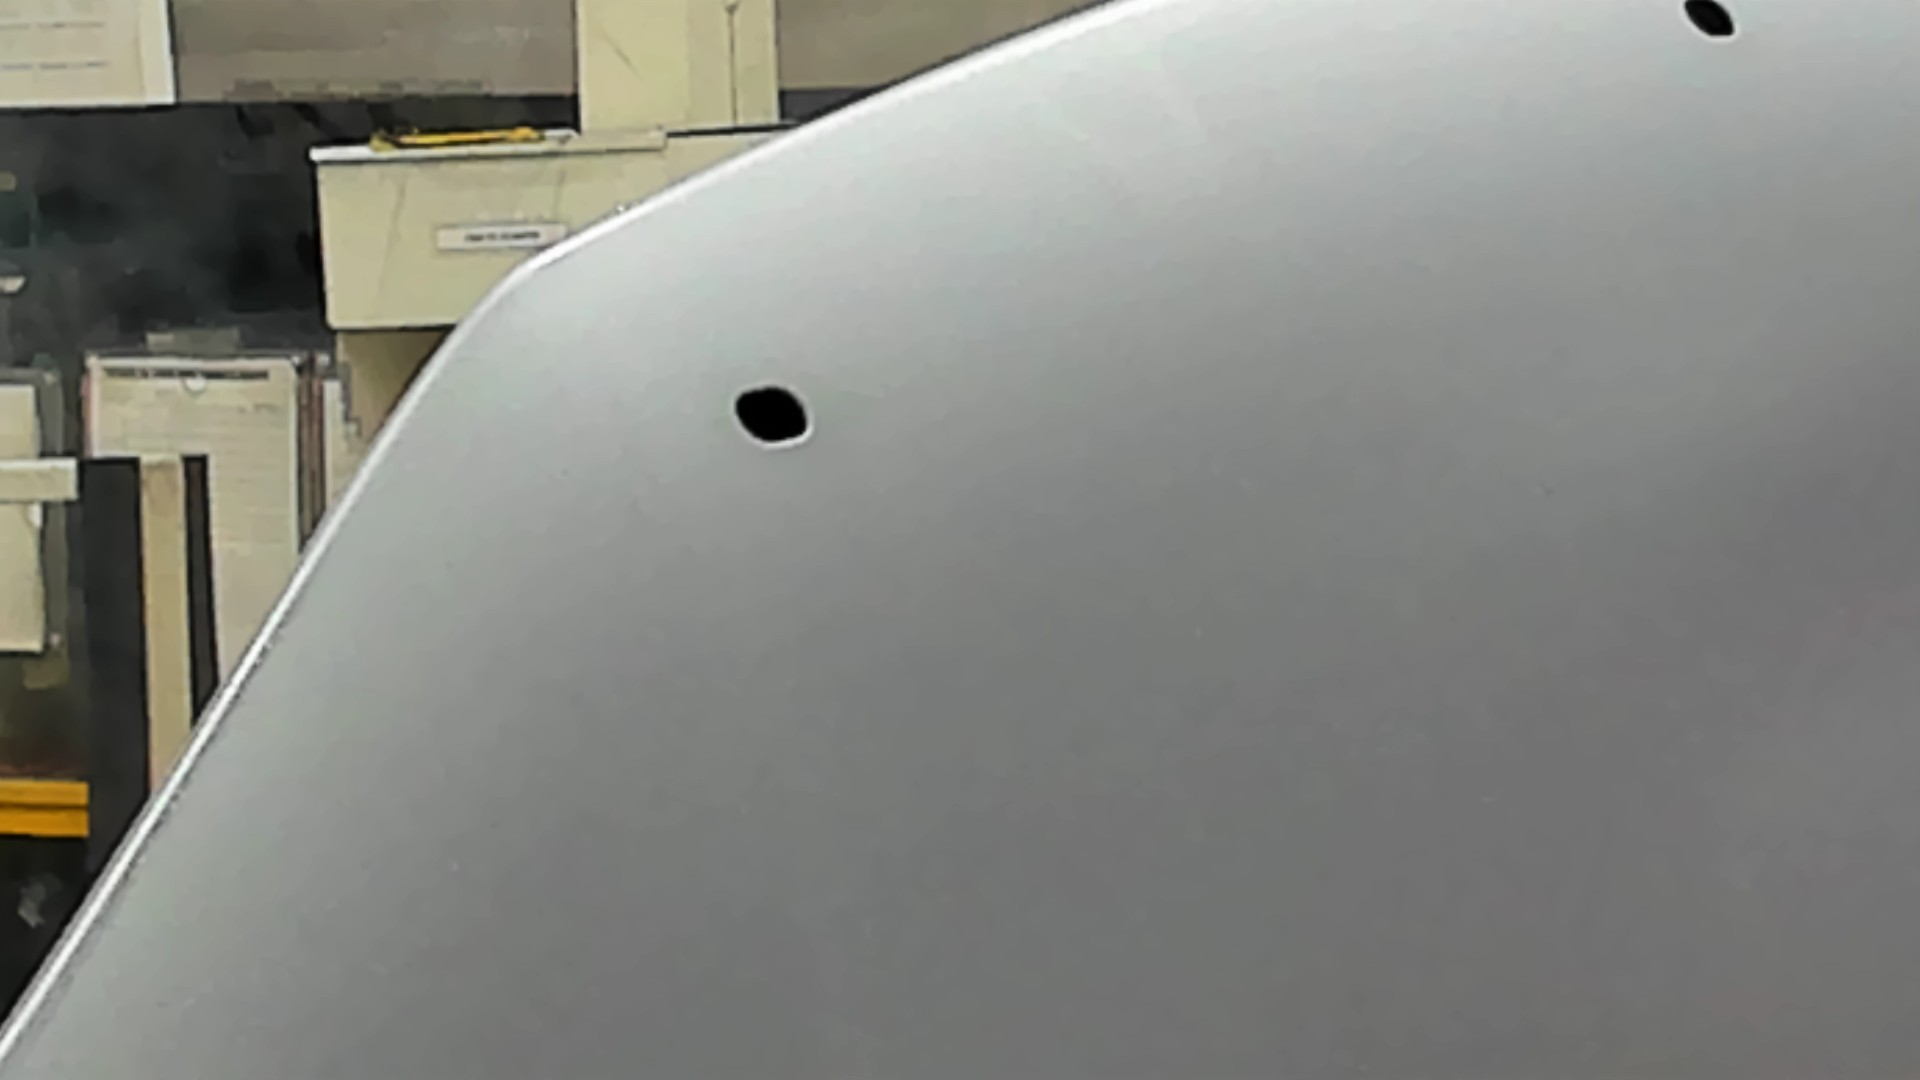Agujero: (732, 384, 814, 444), (1679, 1, 1741, 40)
